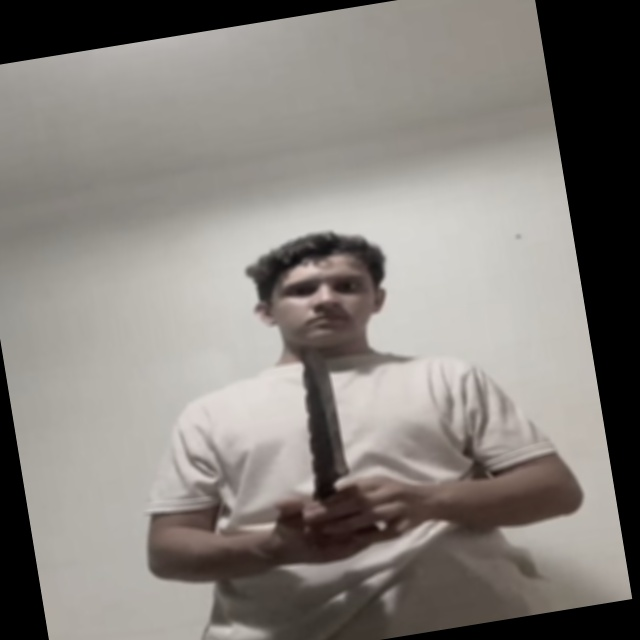Sharp-Object: (292, 341, 354, 489)
